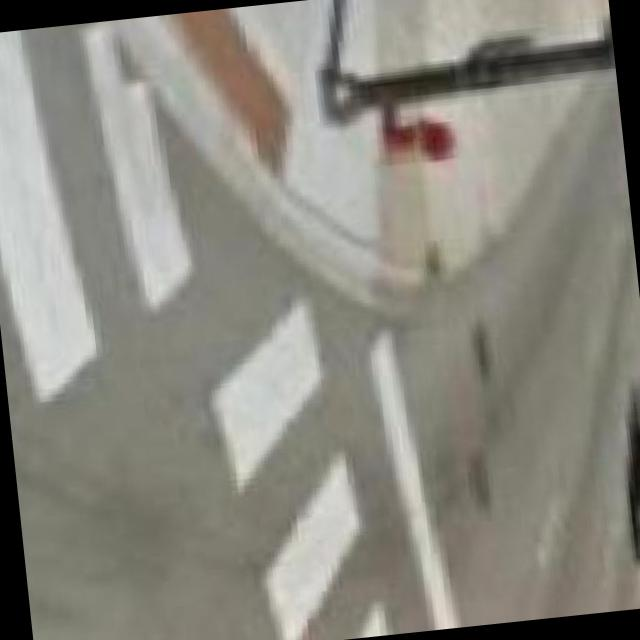zebra: (0, 0, 371, 640)
